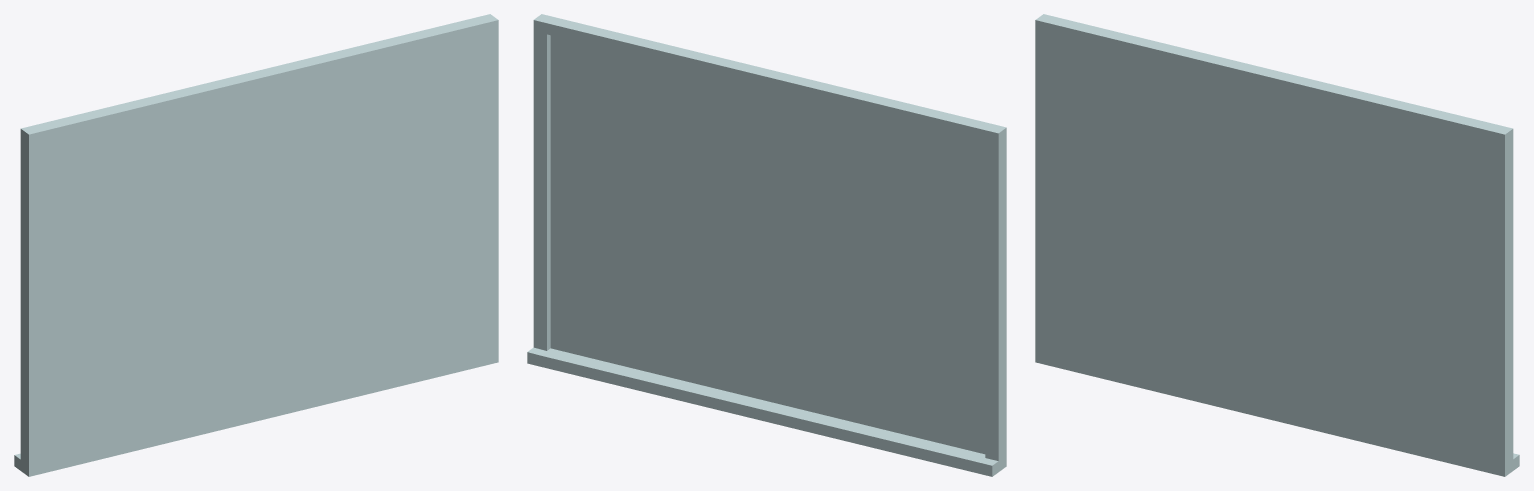
File: x_ray_board.fbx
3 renders of one model, left to right at view 1: azimuth 30°, elevation 25°; view 2: azimuth 150°, elevation 25°; view 3: azimuth 330°, elevation 25°, orthographic.
Visible parts, largest first — view 1: x_ray_board.001; view 2: x_ray_board.001; view 3: x_ray_board.001.
Part boxes in pixels (x1,y1,x2,y2): x_ray_board.001: (14, 14, 498, 476); x_ray_board.001: (527, 14, 1006, 476); x_ray_board.001: (1035, 14, 1519, 476).
Bounding box in the file's own units: 131 × 91.51 × 7.05.
